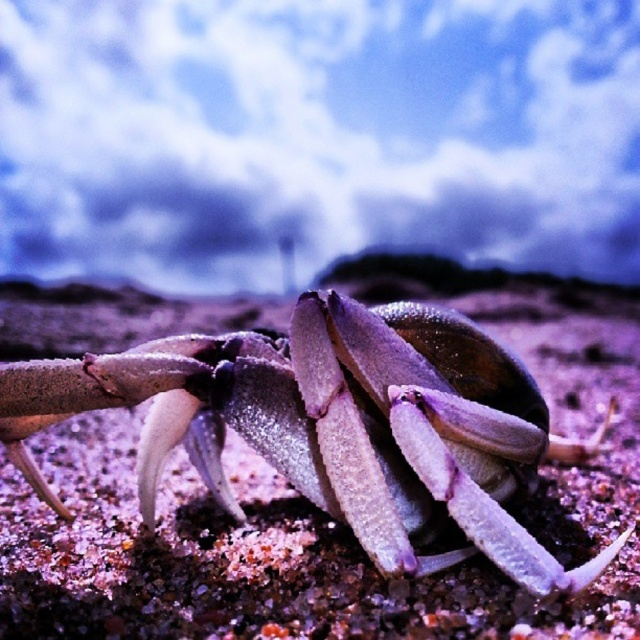Crab: (0, 282, 634, 598)
